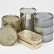paper: (35, 13, 53, 43), (18, 29, 43, 46), (19, 7, 35, 30), (0, 26, 18, 46), (3, 14, 21, 27)
